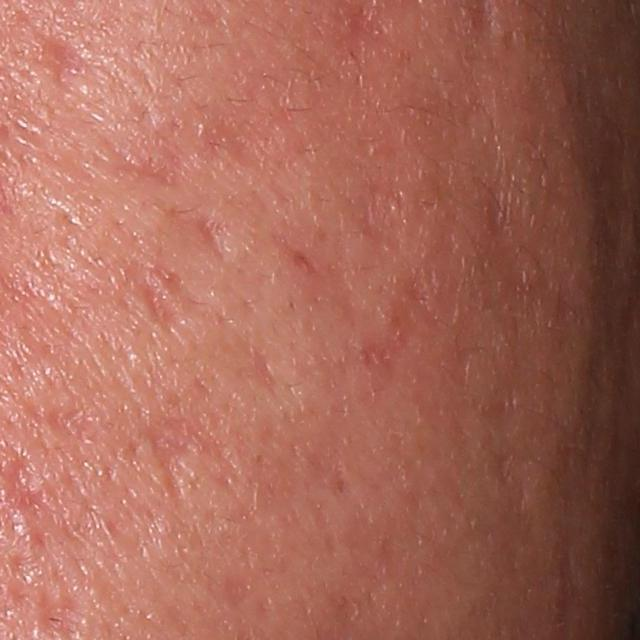atrophic_scar: (146, 105, 291, 178), (144, 413, 230, 512), (280, 215, 354, 302), (26, 24, 82, 92), (128, 285, 173, 345), (186, 220, 232, 273)
